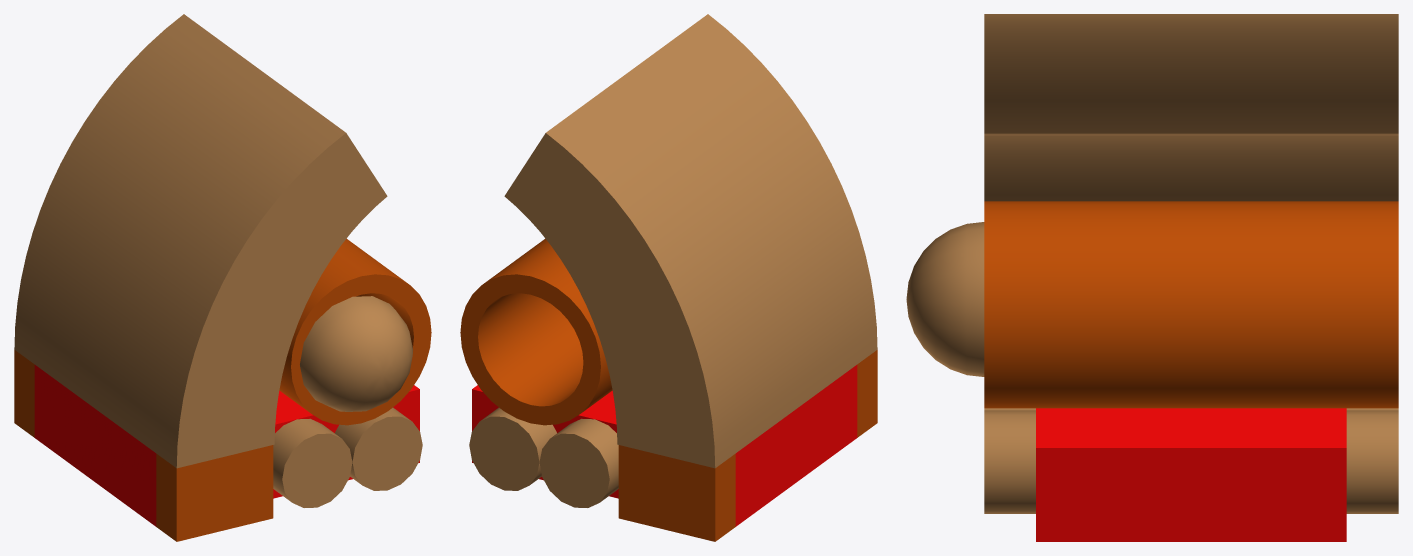
The model's file is Duster.glb.
The picture shows the model from 3 angles, left to right: view 1: azimuth 30°, elevation 25°; view 2: azimuth 150°, elevation 25°; view 3: azimuth 270°, elevation 25°; orthographic projection. The views are drawn at different scales.
Parts seen in each view (by area): view 1: Asset3DLoader.sceneRoot; view 2: Asset3DLoader.sceneRoot; view 3: Asset3DLoader.sceneRoot.
Boxes of the visible parts, left/top/right/bottom form: Asset3DLoader.sceneRoot: left=14, top=14, right=431, bottom=541; Asset3DLoader.sceneRoot: left=460, top=14, right=877, bottom=541; Asset3DLoader.sceneRoot: left=906, top=14, right=1398, bottom=541.
Bounding box in the file's own units: 7.5 × 10 × 9.5.
